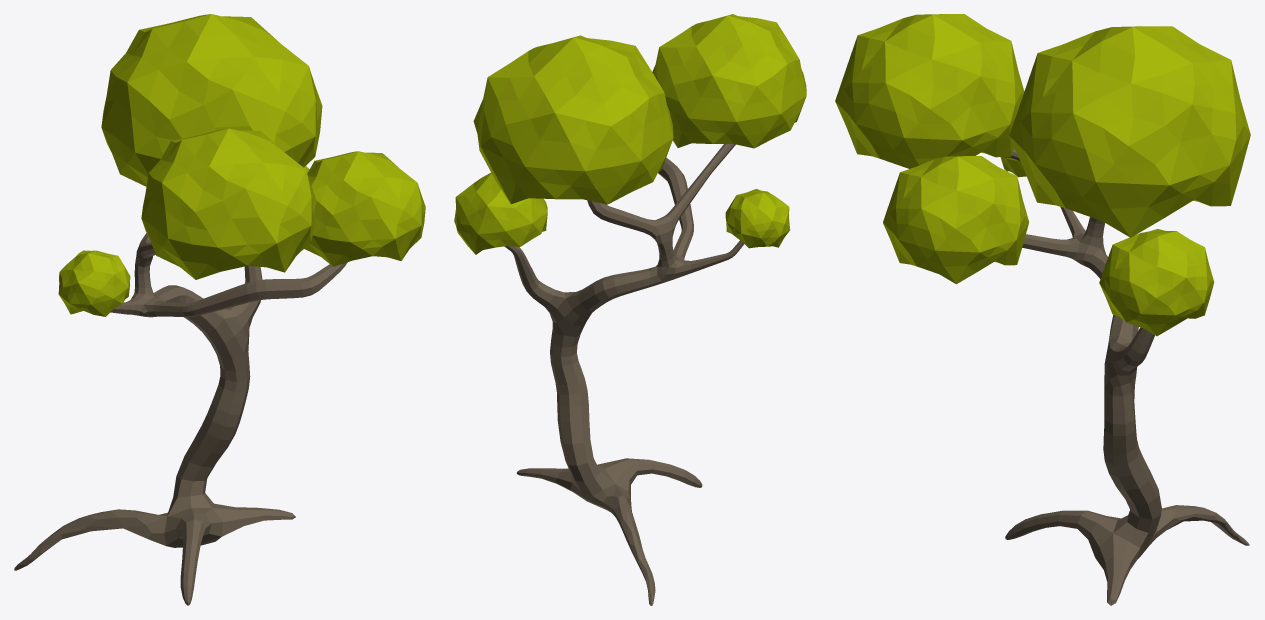
File: Tree002.fbx
3 renders of one model, left to right at view 1: azimuth 30°, elevation 25°; view 2: azimuth 150°, elevation 25°; view 3: azimuth 270°, elevation 25°, orthographic. The views are drawn at different scales.
Visible parts, largest first — view 1: TreeLeaves, TreeStem; view 2: TreeLeaves, TreeStem; view 3: TreeLeaves, TreeStem.
Part boxes in pixels (x1,y1,x2,y2): TreeLeaves: [58, 14, 425, 316]; TreeStem: [14, 233, 347, 605]; TreeLeaves: [454, 14, 806, 254]; TreeStem: [504, 144, 743, 605]; TreeLeaves: [835, 14, 1250, 336]; TreeStem: [1005, 148, 1249, 605].
Size of the model in its own units: 548 by 939 by 598.
